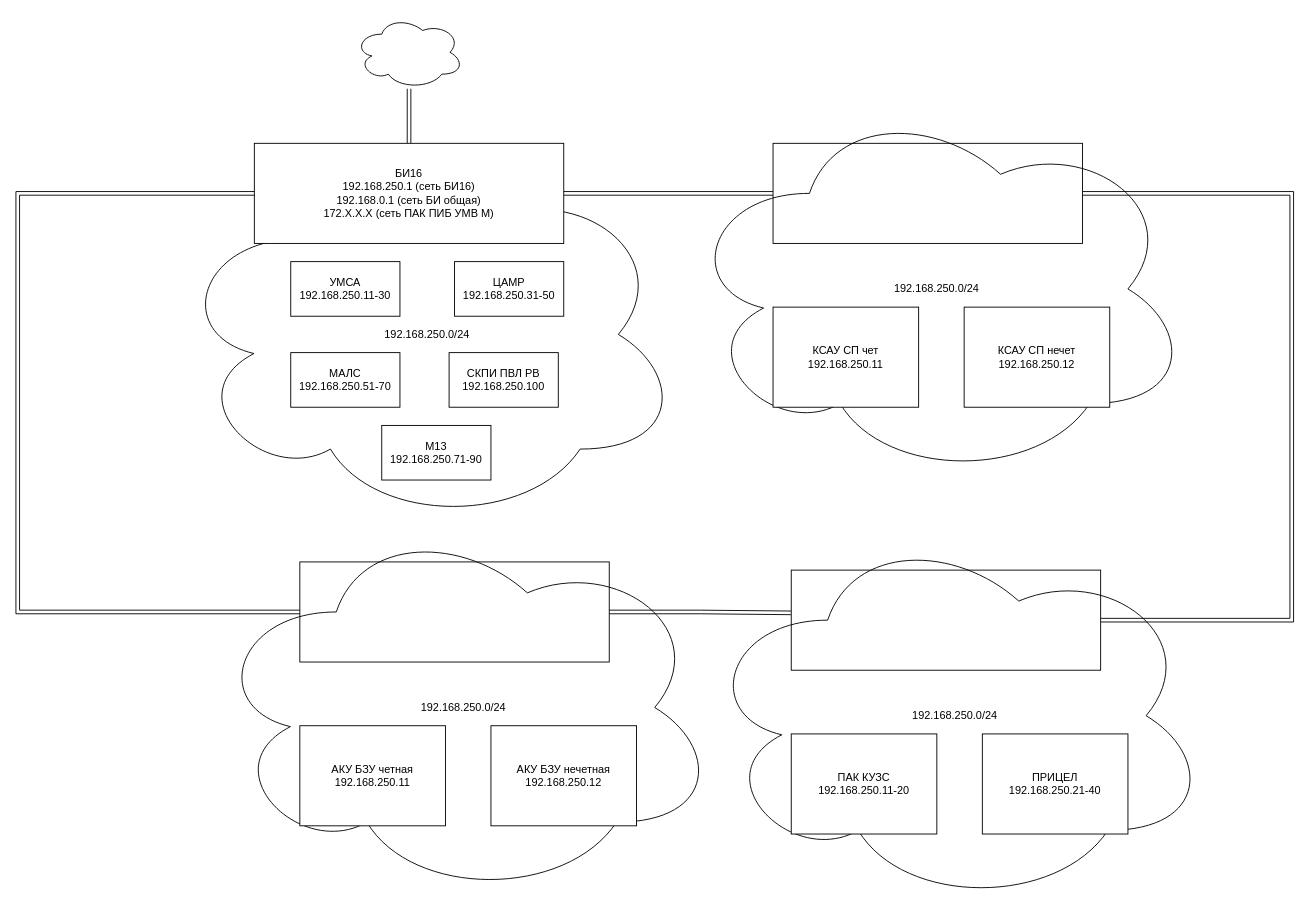
This 1309x923 diagram has some shape labels left out. The shapes that lost their labels are listed below. From the top down, each one's centre as x and y in pixels, then its label:
[409,52]: Программные модули
[927,192]: БИ17 192.168.250.1 (сеть БИ17) 192.168.0.2 (сеть БИ общая)
[454,611]: БИ20 192.168.250.1 (сеть БИ20) 192.168.0.4 (сеть БИ общая)
[945,619]: БИ15 192.168.250.1 (сеть БИ15) 192.168.0.3 (сеть БИ общая)
